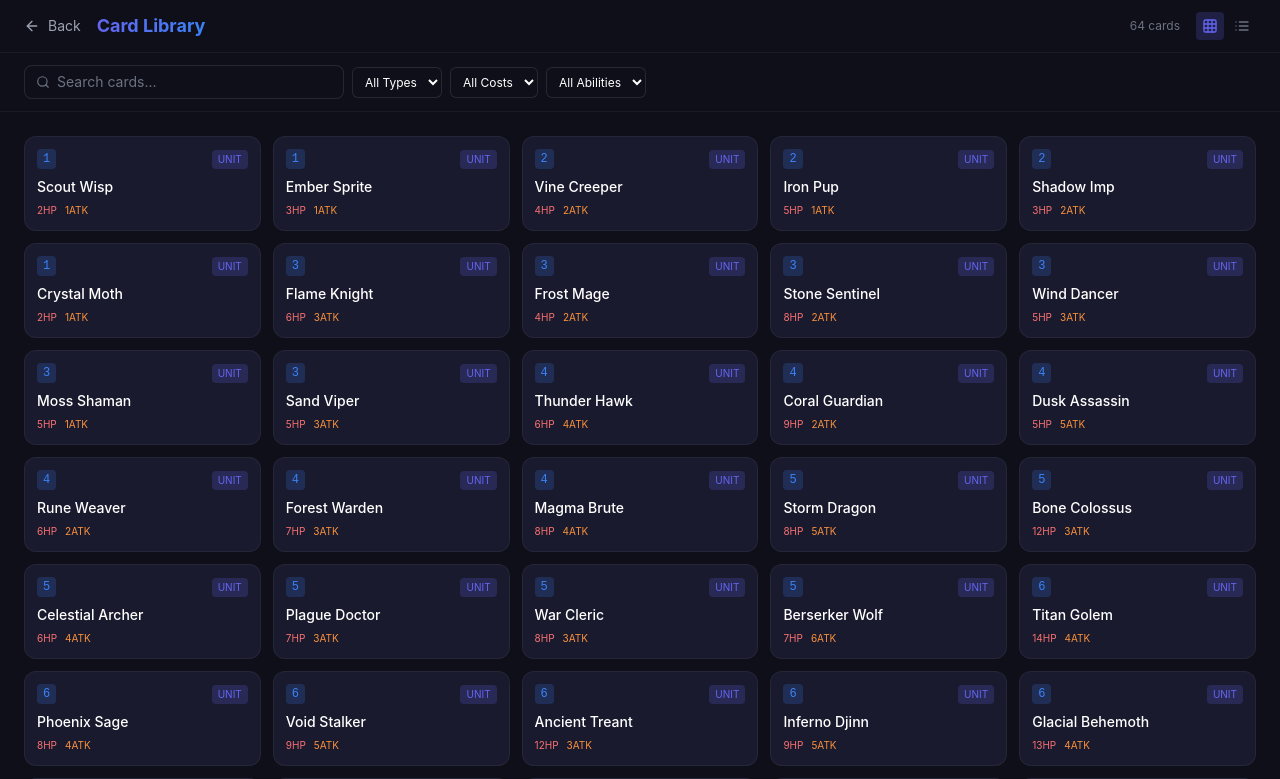
Test: CardLibraryScreen › search filters cards by name
This screenshot has width=1280, height=779.
Type "Phoenix" into the field with placeholder "Search cards..." at (184,82), box [24,65,344,99]
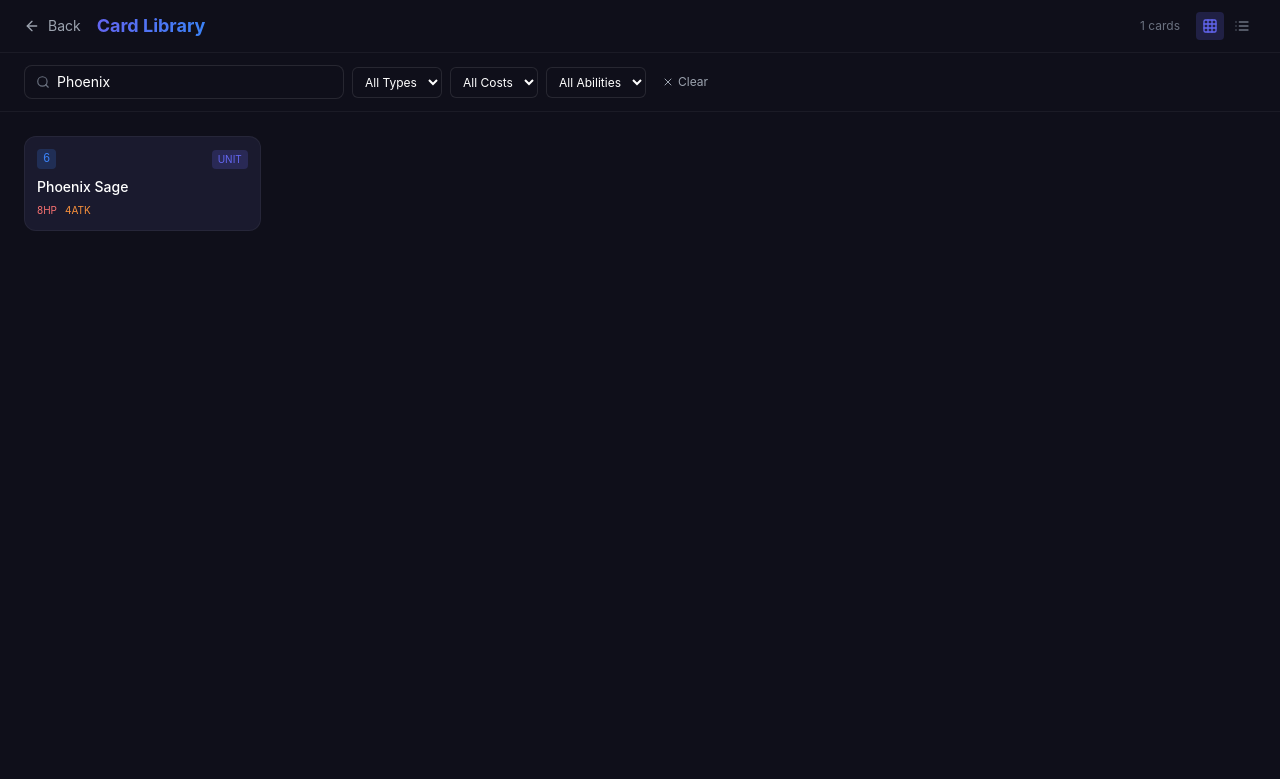
Expected: the text "Phoenix Sage" is shown, [37,178,128,195]
Result: the button "Scout Wisp" is gone
